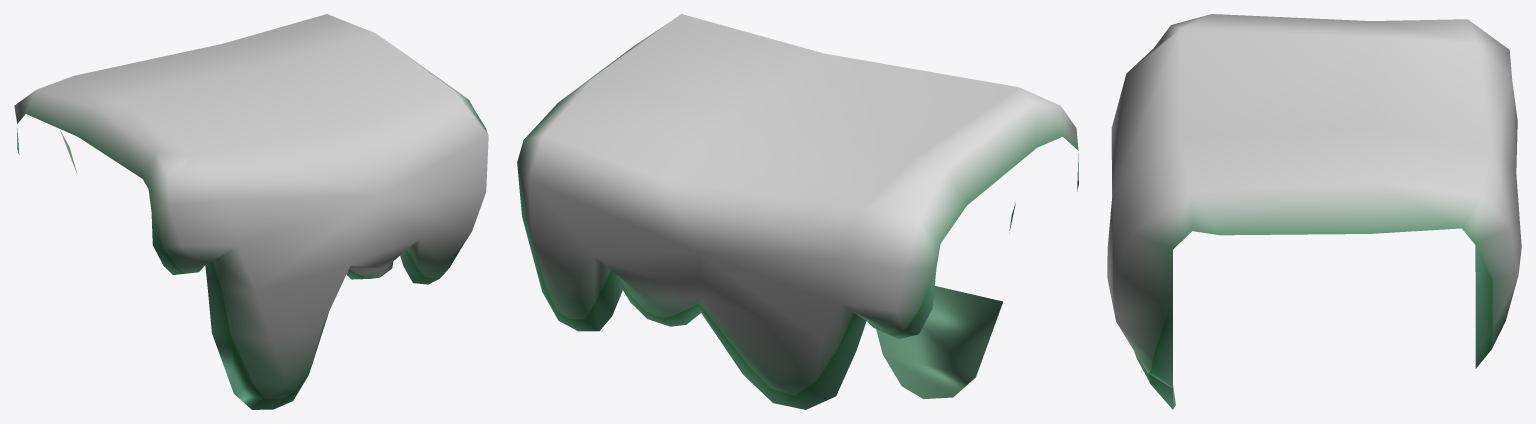
Rendered from Maze_MossA.glb.
The picture shows the model from 3 angles, left to right: view 1: azimuth 30°, elevation 25°; view 2: azimuth 150°, elevation 25°; view 3: azimuth 270°, elevation 25°; orthographic projection. The views are drawn at different scales.
Visible parts, largest first — view 1: Maze_MossA; view 2: Maze_MossA; view 3: Maze_MossA.
Part boxes in pixels (x1,y1,x2,y2): Maze_MossA: (14, 14, 488, 409); Maze_MossA: (517, 14, 1078, 409); Maze_MossA: (1107, 14, 1521, 409).
Bounding box in the file's own units: 1.14 × 0.854 × 0.9681.
